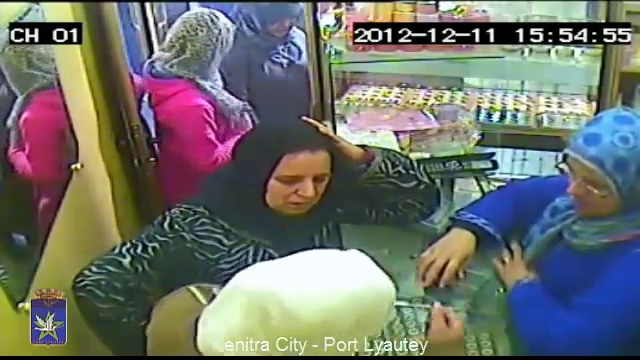face: (271, 151, 332, 214), (562, 163, 620, 216)
